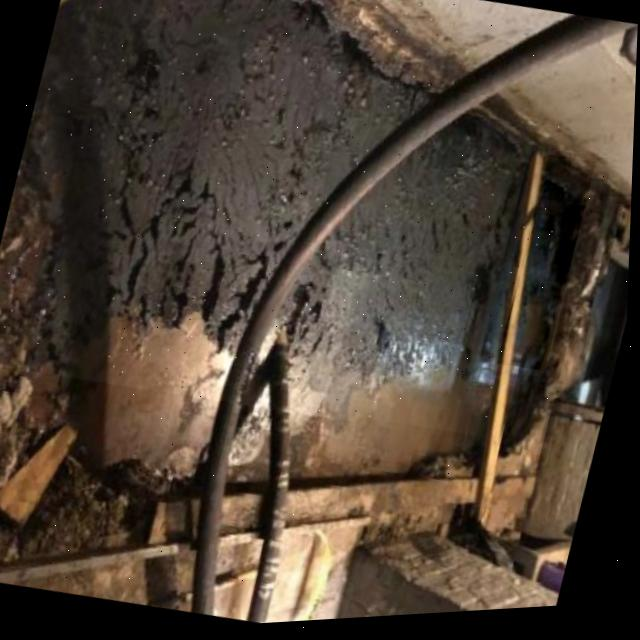spillage: (32, 0, 439, 375), (279, 116, 534, 418), (514, 161, 586, 370)
